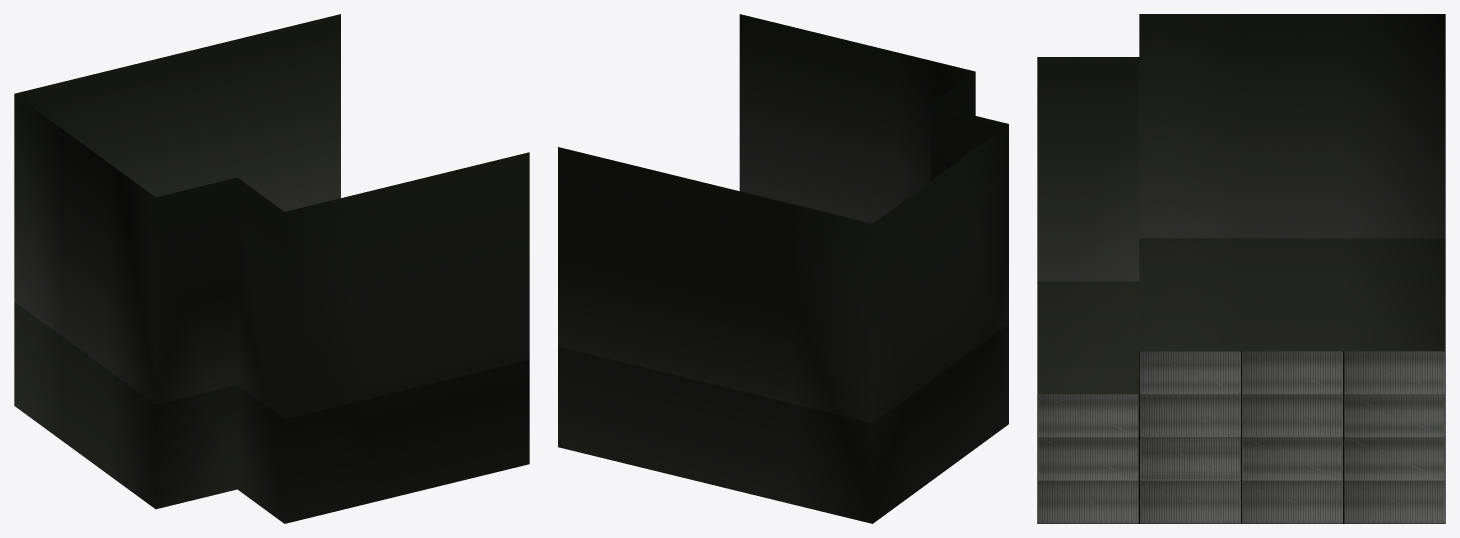
The model's file is MenuScene.fbx.
3 views of the same model, side by side, from view 1: azimuth 30°, elevation 25°; view 2: azimuth 150°, elevation 25°; view 3: azimuth 270°, elevation 25° (orthographic). The views are drawn at different scales.
Visible parts, largest first — view 1: Plane; view 2: Plane; view 3: Plane.
Part boxes in pixels (x1,y1,x2,y2): Plane: [14, 14, 529, 523]; Plane: [558, 14, 1008, 523]; Plane: [1037, 14, 1445, 523].
Bounding box in the file's own units: 12 × 10.95 × 12.
1 material, 1 textured.
